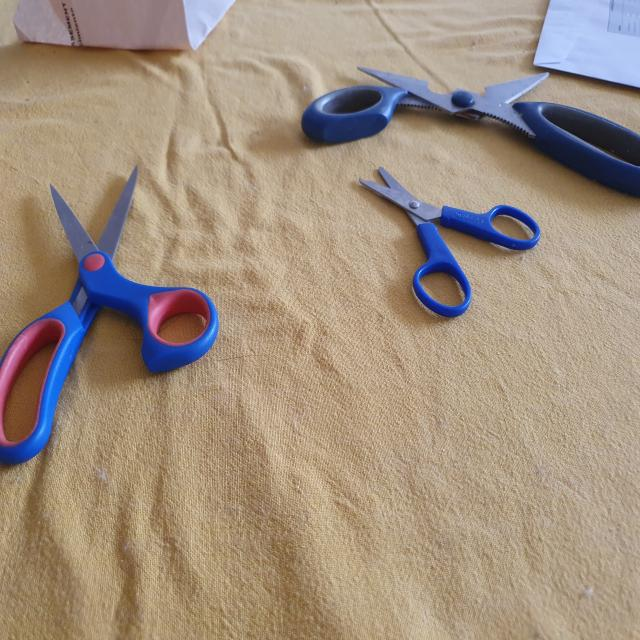scissors: (0, 162, 221, 466), (300, 60, 640, 197), (353, 159, 543, 318)
